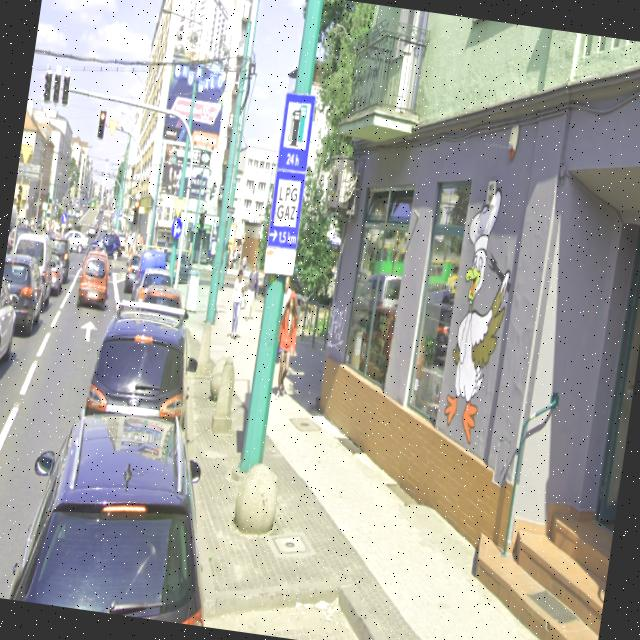Ustap pierwszenstwa: (18, 143, 34, 168), (172, 196, 186, 218), (106, 117, 119, 137)
